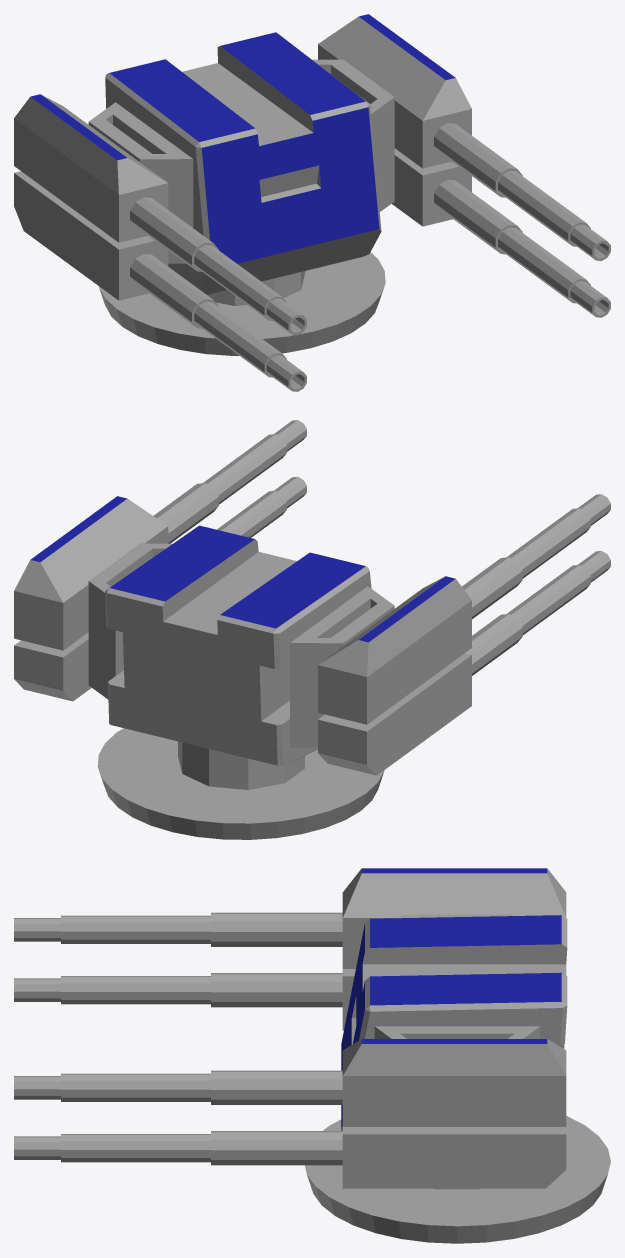
Rendered from turret 1.fbx.
The picture shows the model from 3 angles, top to bottom: view 1: azimuth 30°, elevation 25°; view 2: azimuth 150°, elevation 25°; view 3: azimuth 270°, elevation 25°; orthographic projection. The views are drawn at different scales.
Parts seen in each view (by area): view 1: cannon 01; view 2: cannon 01; view 3: cannon 01.
Part boxes in pixels (bbox=[...]): cannon 01: bbox=[14, 14, 610, 391]; cannon 01: bbox=[14, 420, 610, 839]; cannon 01: bbox=[14, 868, 610, 1243].
Size of the model in its own units: 296 by 169 by 406.
